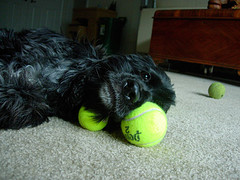tennis ball: (119, 100, 169, 149), (77, 101, 112, 133), (207, 81, 227, 100)
